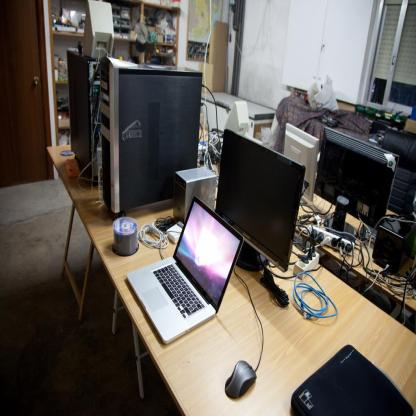board: (126, 196, 244, 344)
